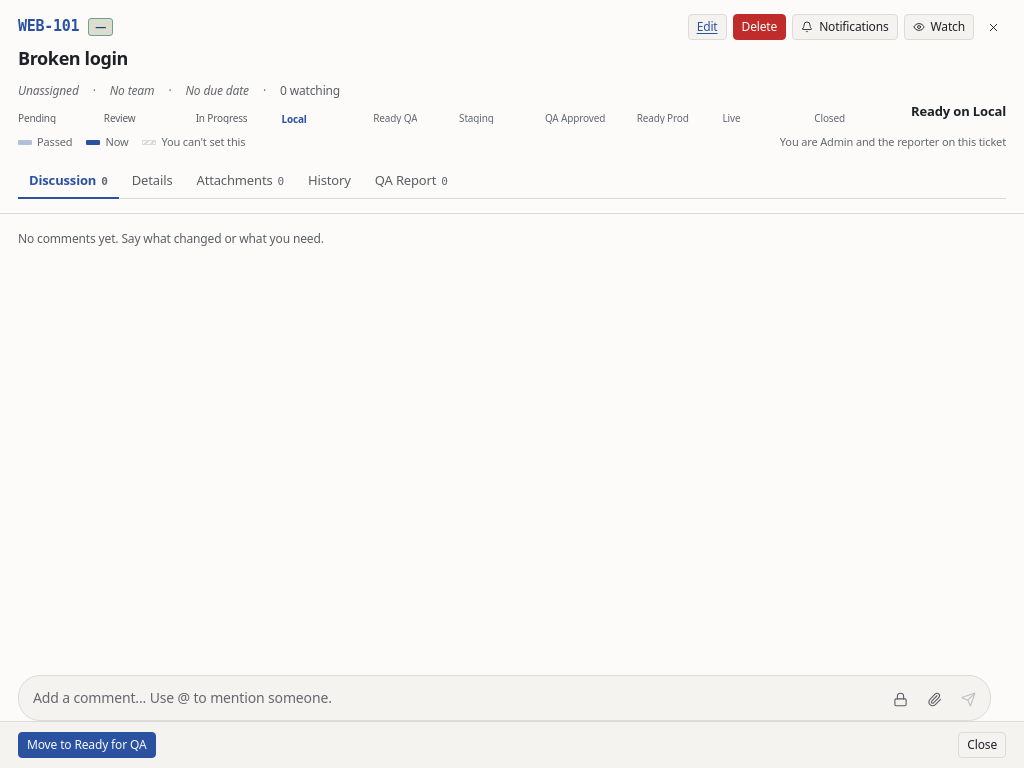
Test: TicketDetailDrawer › shows validation dialog when ownership is missing
The width and height of the screenshot is (1024, 768).
Expected: the text "WEB-101" is shown, [18,16,79,38]
Click the button "Move to Ready for QA": x=87, y=745 [18,732,156,758]
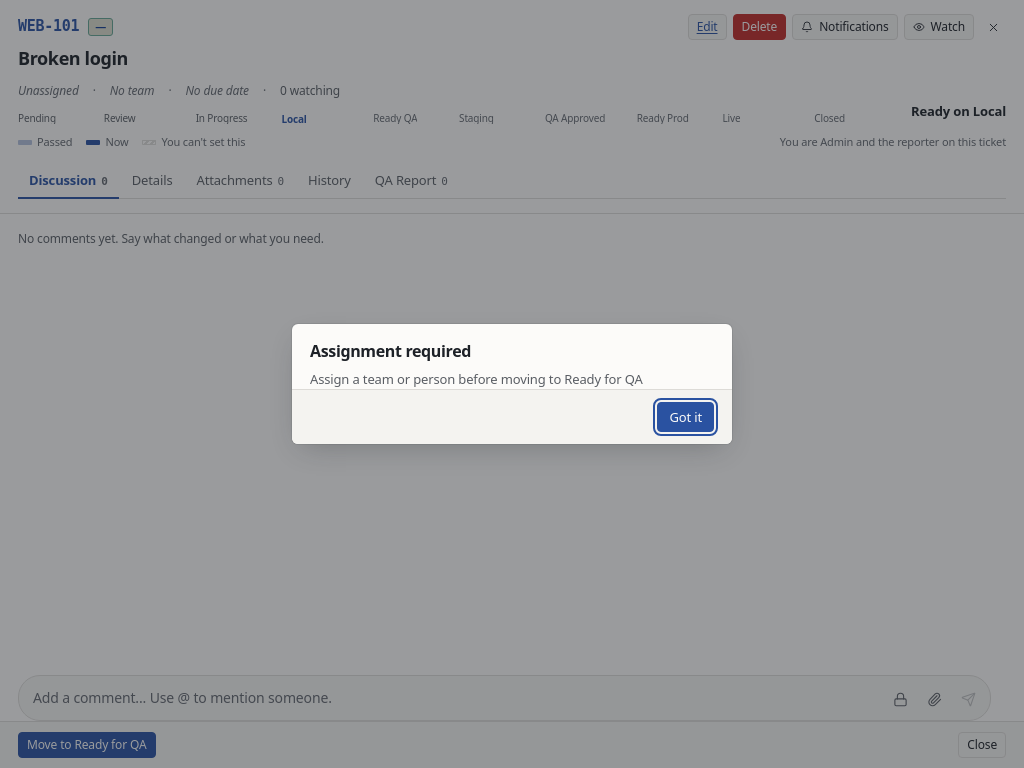
Result: the dialog is shown at [292,324,732,444]
Result: the heading "Assignment required" is shown at [310,340,471,362]
Result: the text "Assign a team or person before moving to Ready for QA" is shown at [310,370,643,388]
